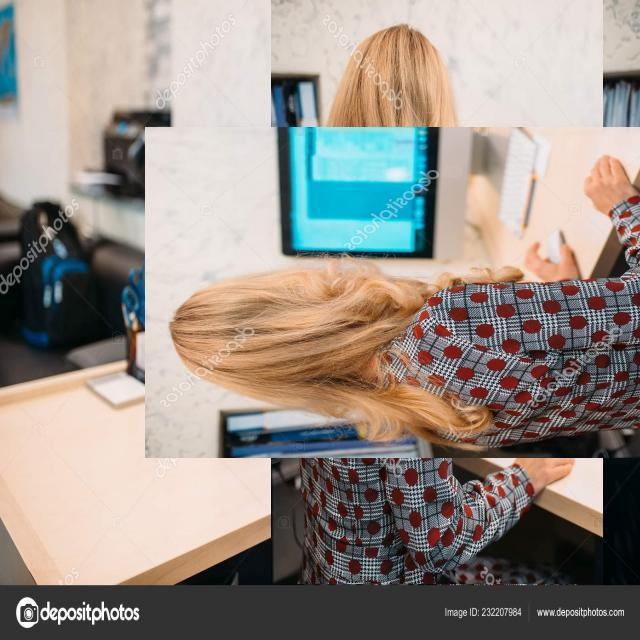NotFall: (110, 187, 640, 540)
